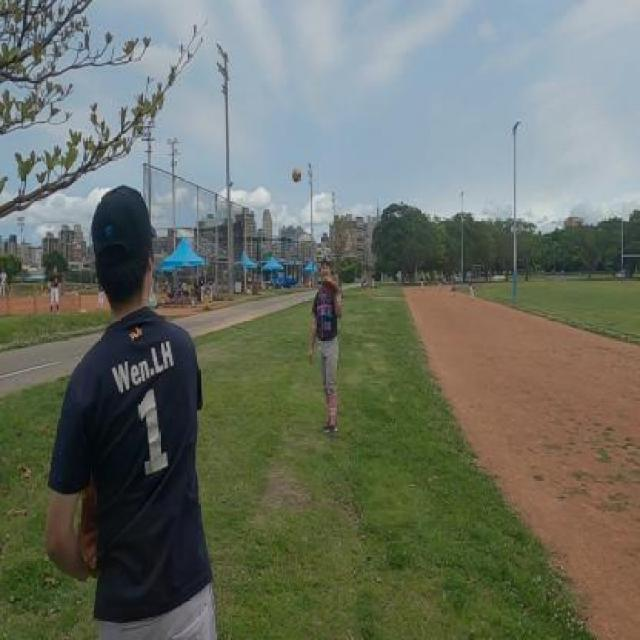baseball: (292, 167, 300, 182)
